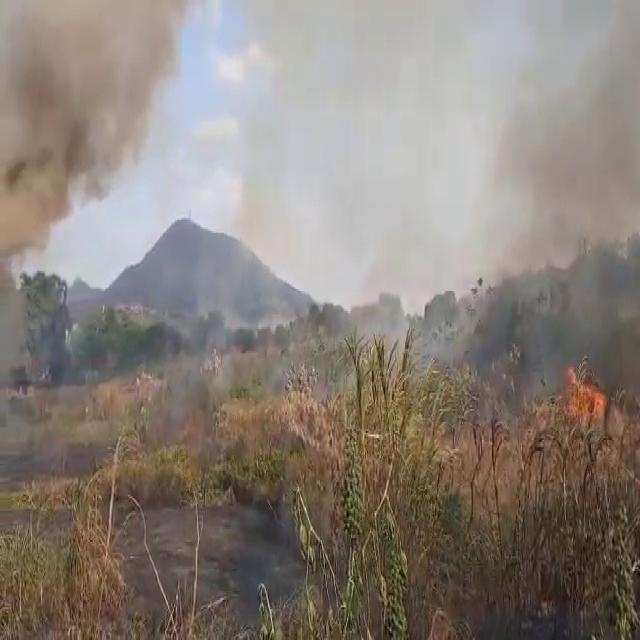Fire: (565, 369, 607, 418)
Smoke: (484, 0, 640, 275), (226, 76, 309, 300), (1, 130, 85, 322), (412, 260, 496, 376), (554, 232, 628, 356), (507, 265, 568, 407), (349, 255, 405, 384), (198, 222, 266, 326)
